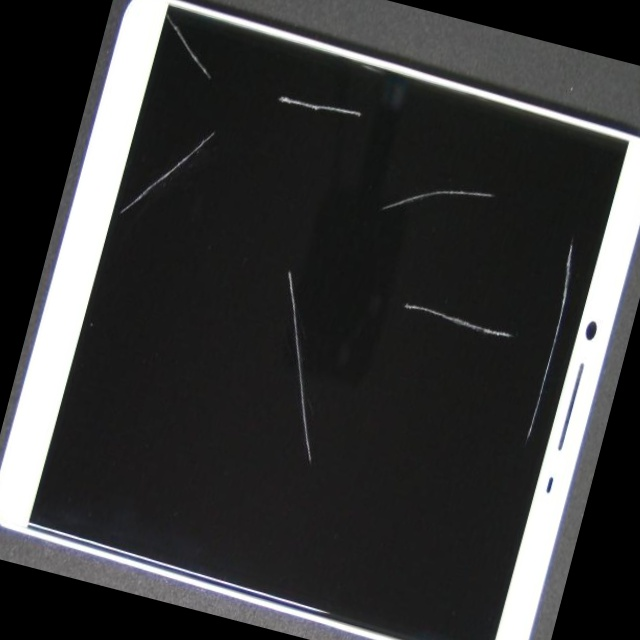scratch: (70, 0, 501, 554), (216, 254, 629, 640), (318, 150, 640, 481), (342, 52, 640, 306), (134, 74, 295, 256), (276, 20, 458, 165)
